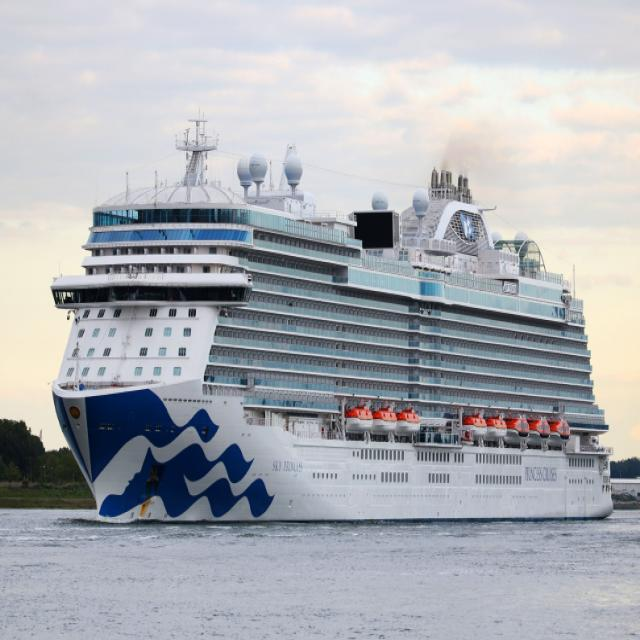cruises: (46, 107, 621, 534)
